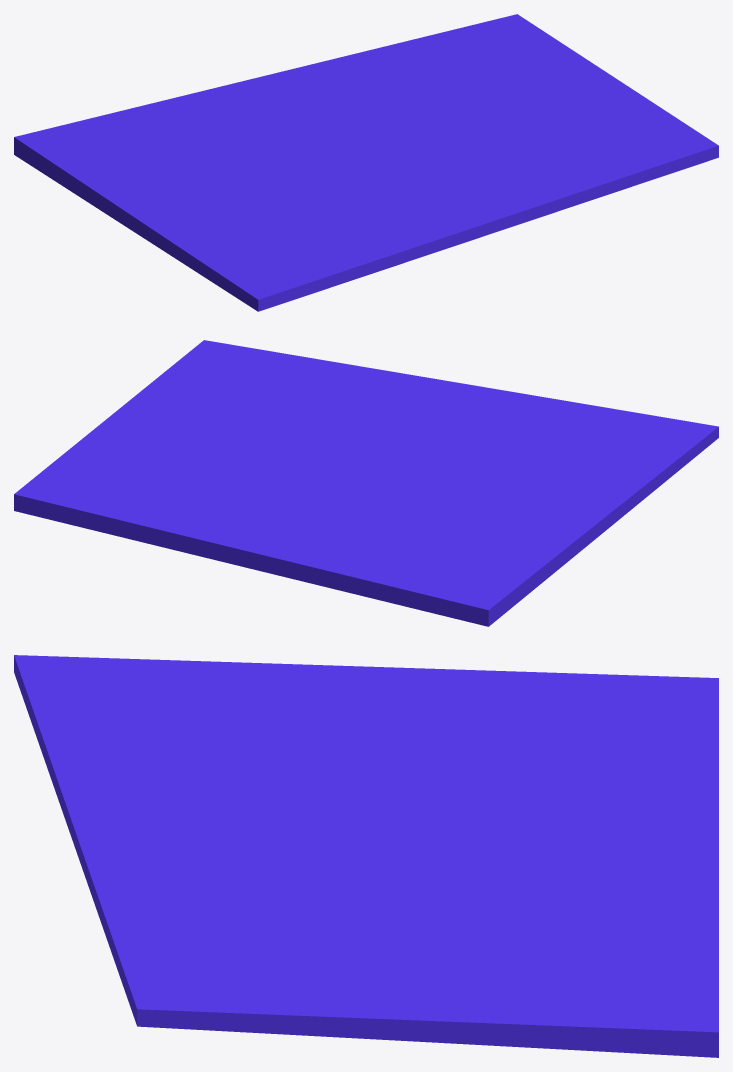
Rendered from Ship_BayDoor.FBX.
3 renders of one model, top to bottom at view 1: azimuth 30°, elevation 25°; view 2: azimuth 150°, elevation 25°; view 3: azimuth 270°, elevation 25°, orthographic. The views are drawn at different scales.
Visible parts, largest first — view 1: BayDoor_Right; view 2: BayDoor_Right; view 3: BayDoor_Right.
Part boxes in pixels (box(x1,y1,x2,y2)): BayDoor_Right: box(14, 14, 718, 311); BayDoor_Right: box(14, 340, 718, 626); BayDoor_Right: box(14, 655, 718, 1057).
Size of the model in its own units: 175 by 11.26 by 147.
